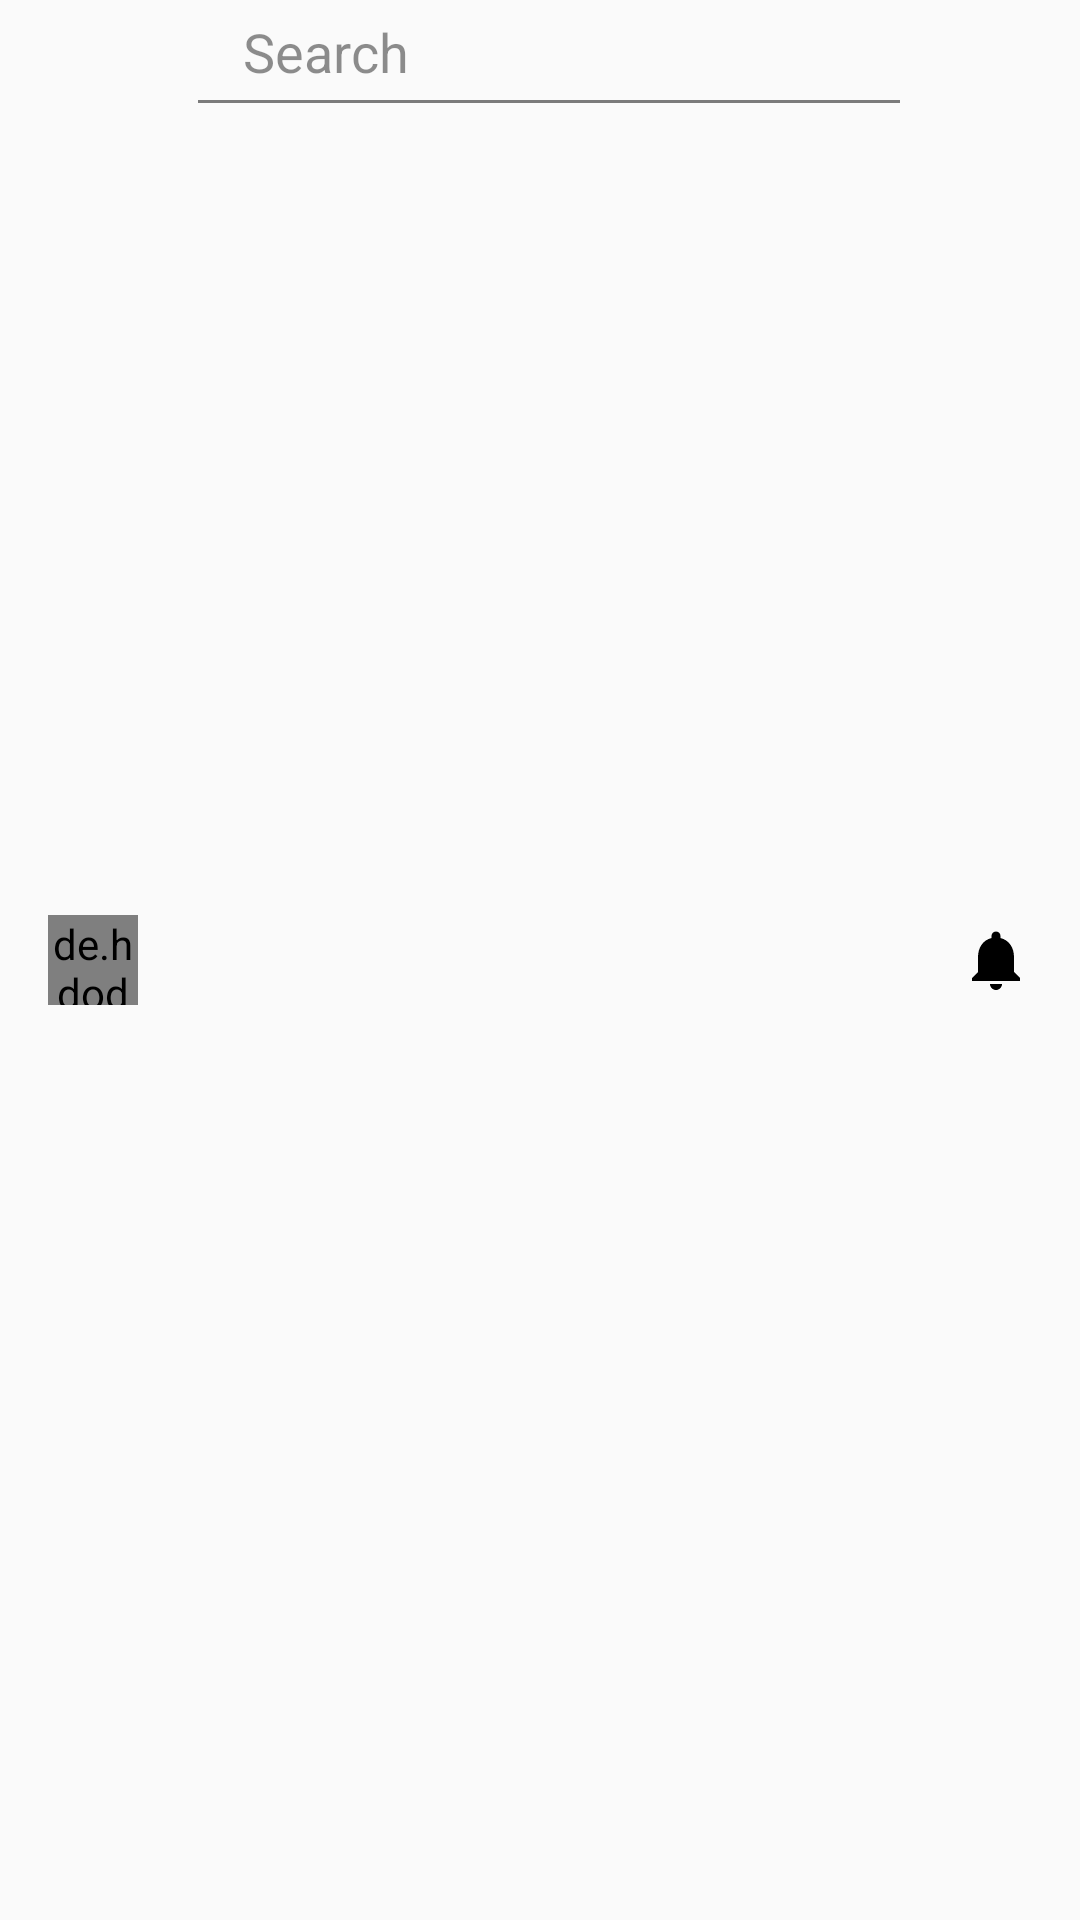

Icons on this 1080 x 1920 Android screen, each with its box as (x1, y1, x2, y2):
notification: (972, 931, 1020, 990)
